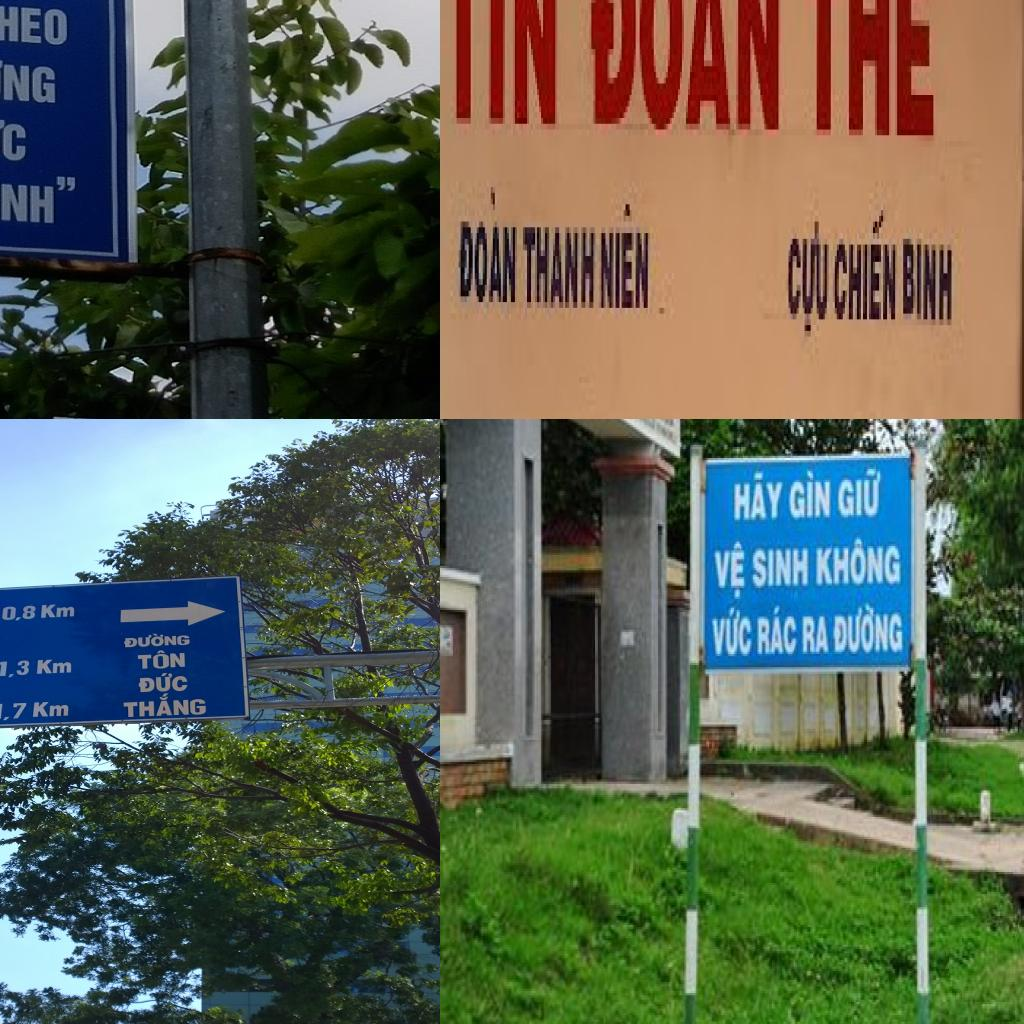text: (577, 0, 786, 146), (796, 0, 945, 158), (440, 0, 563, 152), (449, 182, 523, 320), (833, 198, 899, 336), (521, 216, 599, 325), (597, 187, 658, 325), (782, 204, 835, 348), (0, 167, 80, 228), (815, 537, 905, 590), (834, 606, 905, 658), (0, 2, 68, 48), (731, 471, 788, 524), (0, 54, 57, 106), (836, 467, 884, 522), (752, 546, 812, 590), (120, 690, 208, 718), (788, 469, 834, 522), (709, 608, 753, 658), (756, 606, 798, 658), (714, 542, 748, 603), (0, 111, 30, 164), (801, 614, 832, 656), (122, 632, 192, 650), (137, 671, 190, 694), (133, 649, 188, 671), (34, 658, 73, 676), (29, 701, 70, 718), (1, 604, 36, 622), (39, 603, 76, 619), (0, 660, 31, 678), (0, 702, 27, 722)
